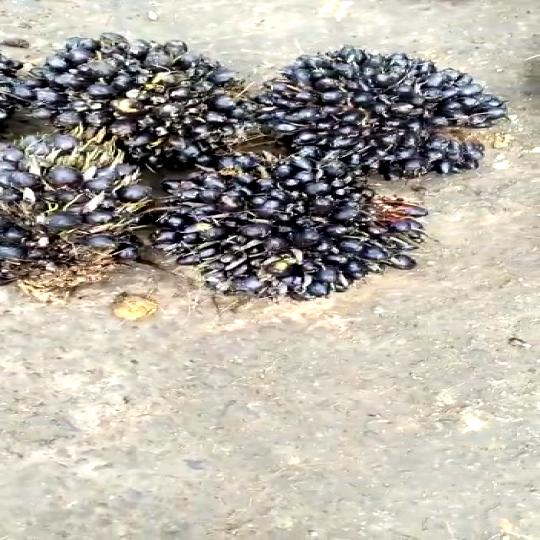mentah: (1, 38, 514, 294)
